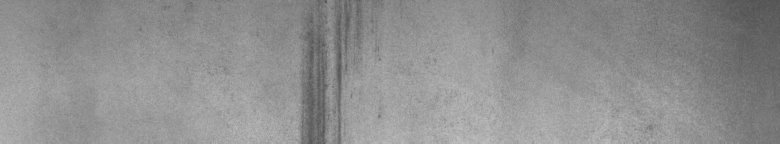ka: (292, 4, 381, 136)
